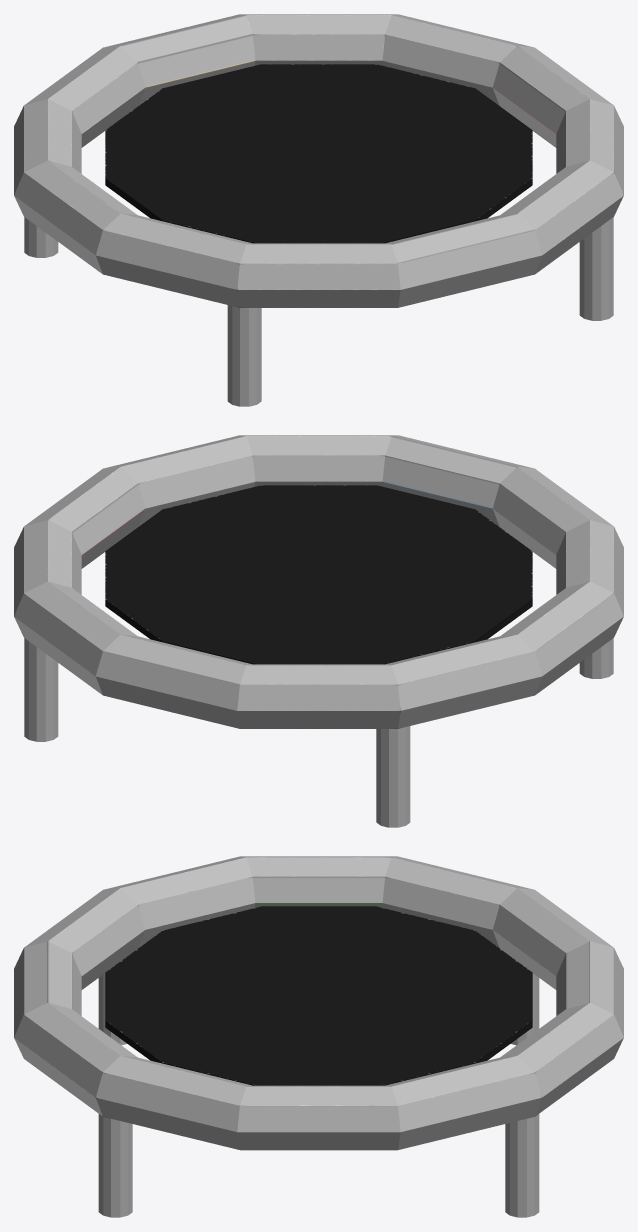
The model's file is trampoline.fbx.
3 renders of one model, top to bottom at view 1: azimuth 30°, elevation 25°; view 2: azimuth 150°, elevation 25°; view 3: azimuth 270°, elevation 25°, orthographic.
Parts seen in each view (by area): view 1: torus, cylinder; view 2: torus, cylinder; view 3: torus, cylinder.
Part boxes in pixels (<box>): torus: <box>14,14,623,406</box>; cylinder: <box>105,64,532,243</box>; torus: <box>14,435,623,827</box>; cylinder: <box>105,485,532,664</box>; torus: <box>14,856,623,1217</box>; cylinder: <box>105,906,532,1085</box>.
Size of the model in its own units: 40 by 11.04 by 40.
1 material, 1 textured.
